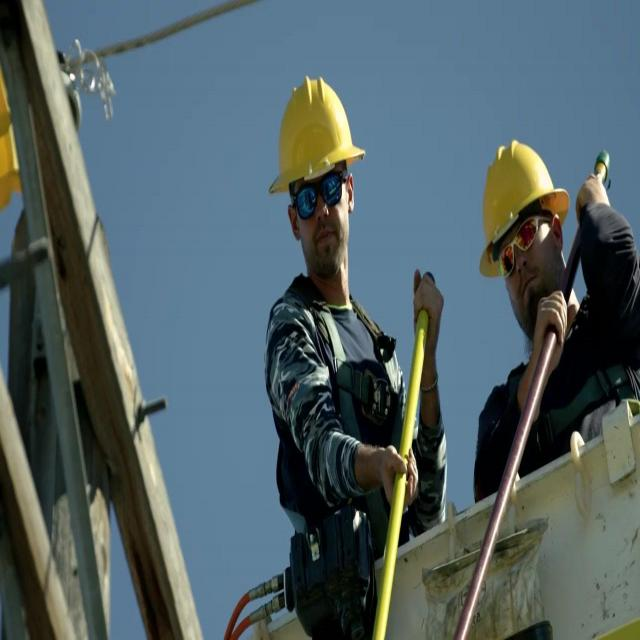Reflective-Jacket: (268, 276, 408, 634)
Safety-Helmet: (266, 68, 366, 199), (475, 133, 571, 262)
